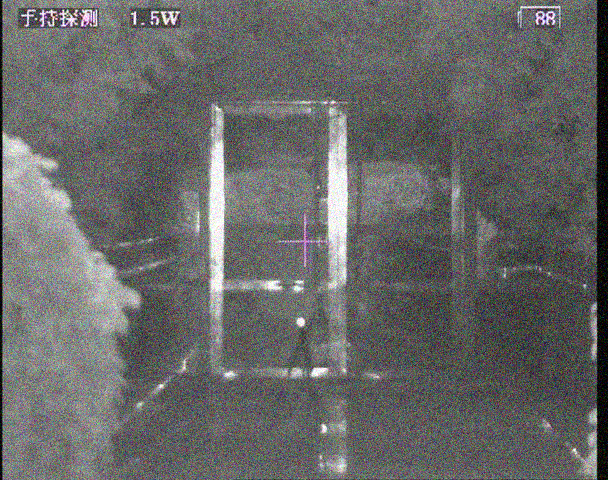my: (295, 317, 306, 327)
